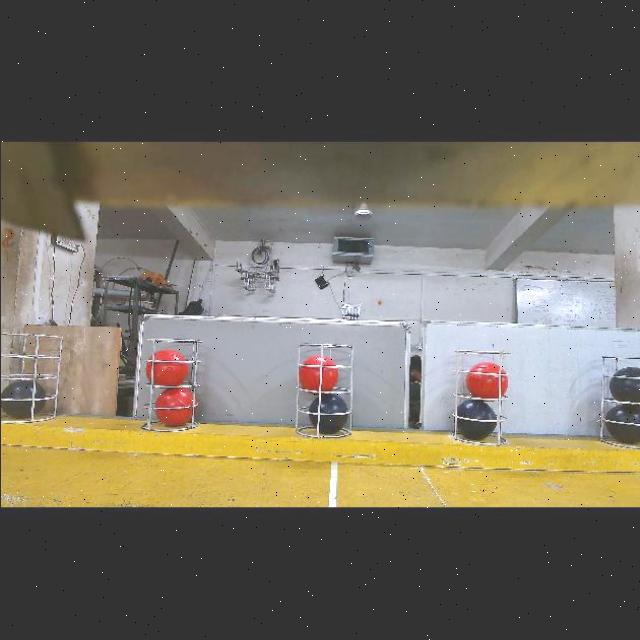P: (0, 379, 46, 416), (456, 398, 496, 439), (308, 392, 347, 432), (604, 402, 640, 443), (609, 365, 640, 401)
R: (152, 387, 191, 426), (149, 349, 191, 385), (465, 361, 507, 397), (298, 354, 338, 389)
S: (134, 334, 206, 430), (450, 343, 516, 445), (291, 338, 354, 438), (0, 333, 60, 411), (594, 346, 640, 442)
